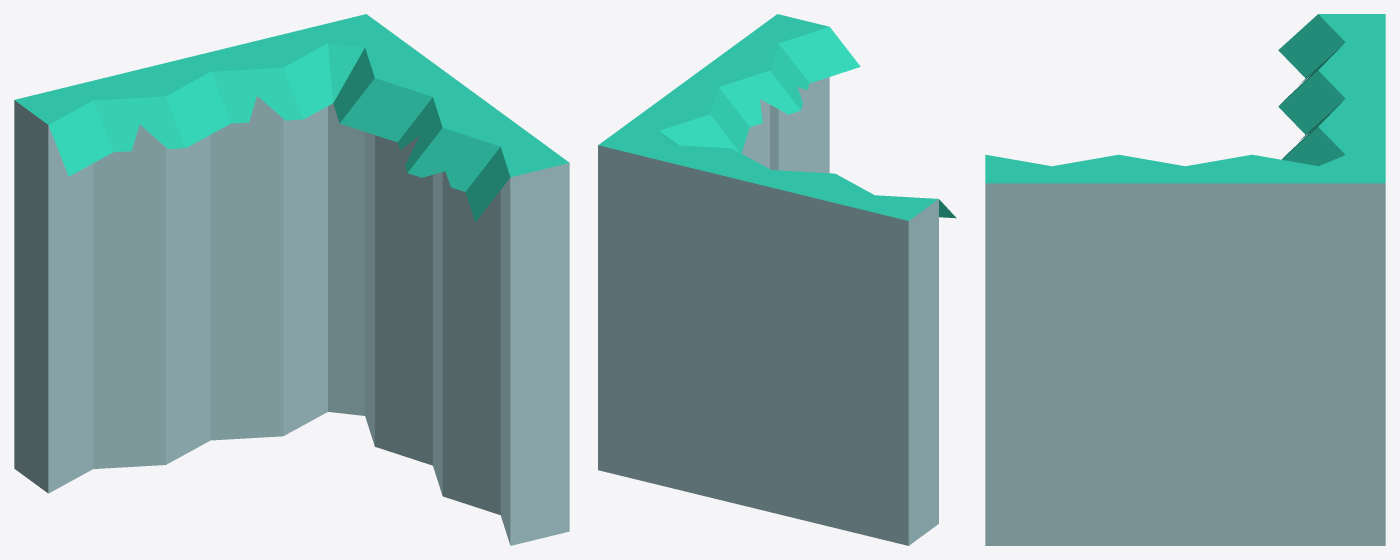
Rendered from cliff_cornerInnerTop_stone.fbx.
3 renders of one model, left to right at view 1: azimuth 30°, elevation 25°; view 2: azimuth 150°, elevation 25°; view 3: azimuth 270°, elevation 25°, orthographic. The views are drawn at different scales.
Parts seen in each view (by area): view 1: cliff_cornerInnerTop_stone; view 2: cliff_cornerInnerTop_stone; view 3: cliff_cornerInnerTop_stone.
Part boxes in pixels (x1=…): cliff_cornerInnerTop_stone: x1=14, y1=14, x2=569, y2=545; cliff_cornerInnerTop_stone: x1=598, y1=14, x2=956, y2=545; cliff_cornerInnerTop_stone: x1=985, y1=14, x2=1385, y2=545.
Size of the model in its own units: 10 by 10 by 10.
